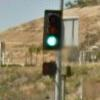traffic lights: (42, 10, 64, 52)
